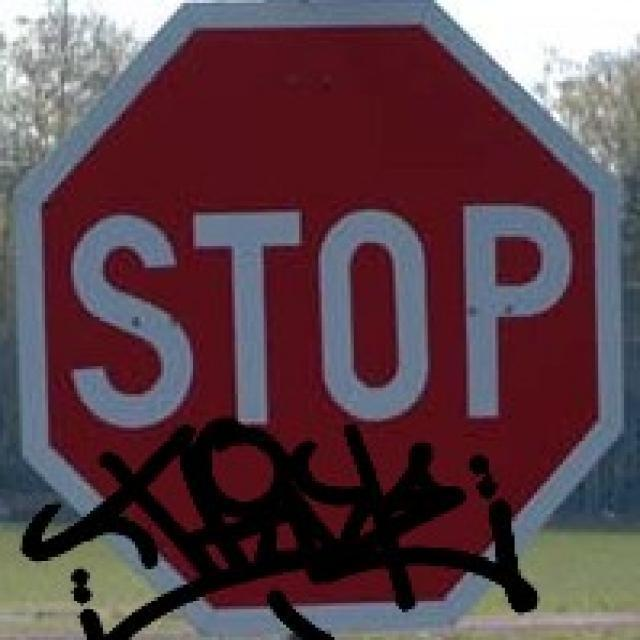Stop-Sign: (52, 34, 582, 590)
